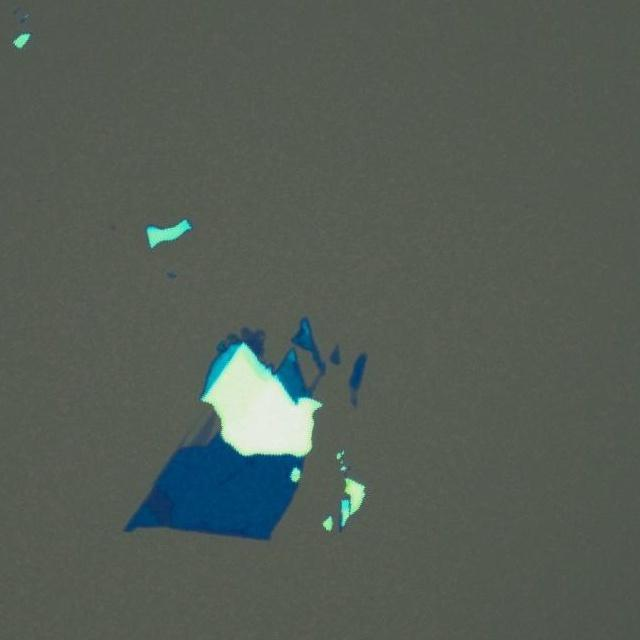monolayer-eWW4: (188, 411, 218, 446), (310, 368, 324, 394), (348, 386, 358, 401)
